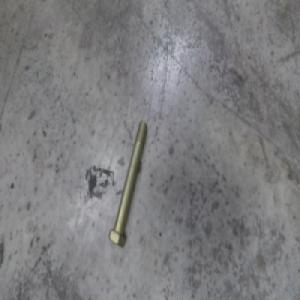Bolt: (108, 121, 147, 248)
